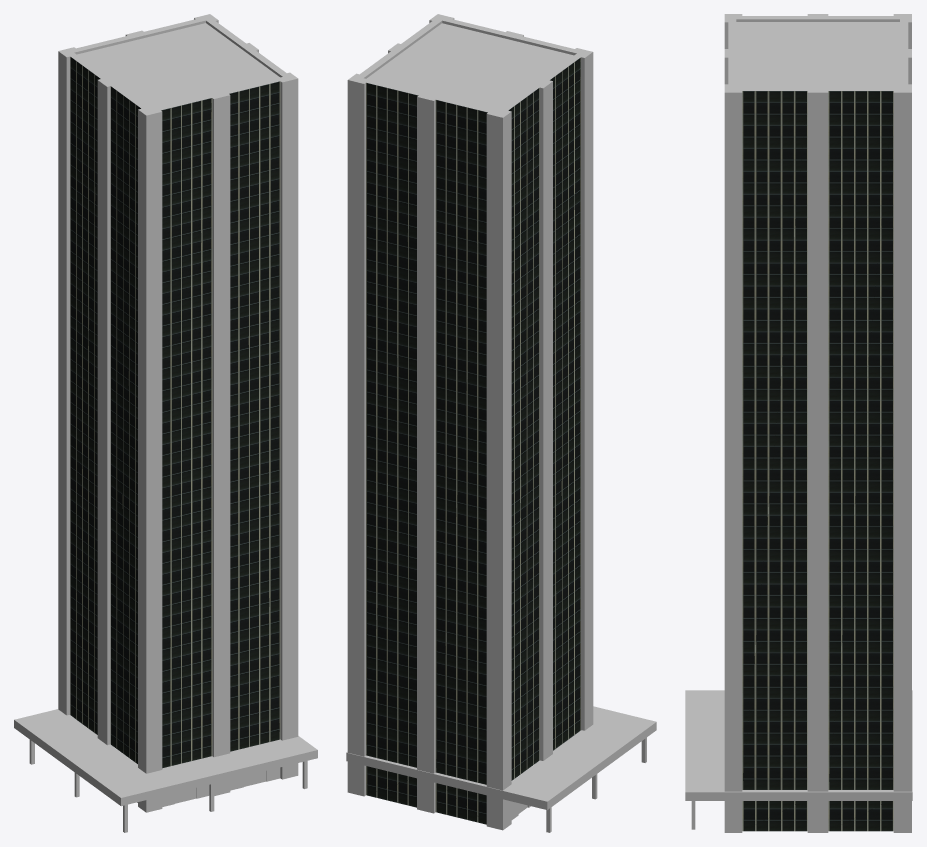
The picture shows the model from 3 angles, left to right: view 1: azimuth 30°, elevation 25°; view 2: azimuth 150°, elevation 25°; view 3: azimuth 270°, elevation 25°; orthographic projection. The views are drawn at different scales.
Parts seen in each view (by area): view 1: BC-092; view 2: BC-092; view 3: BC-092.
Boxes of the visible parts, <box> form: BC-092: <box>14,14,317,832</box>; BC-092: <box>346,14,656,832</box>; BC-092: <box>685,14,912,832</box>.
Size of what is drawn, in the model's own units: 24.97 by 84.5 by 23.49.
